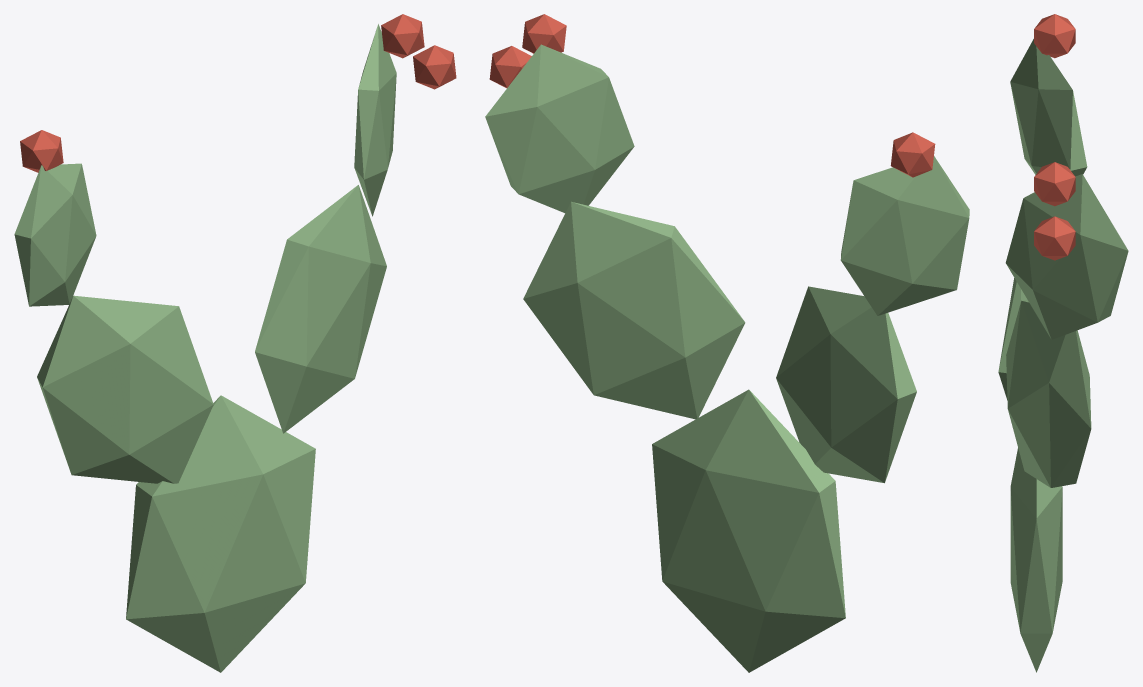
Rendered from SM_Cactus_Prickly_Pear.glb.
3 renders of one model, left to right at view 1: azimuth 30°, elevation 25°; view 2: azimuth 150°, elevation 25°; view 3: azimuth 270°, elevation 25°, orthographic. The views are drawn at different scales.
Visible parts, largest first — view 1: SM_Cactus_Prickly_Pear; view 2: SM_Cactus_Prickly_Pear; view 3: SM_Cactus_Prickly_Pear.
Boxes of the visible parts, box(x1,y1,x2,y2) form: SM_Cactus_Prickly_Pear: box(14, 14, 456, 672); SM_Cactus_Prickly_Pear: box(485, 14, 969, 672); SM_Cactus_Prickly_Pear: box(998, 14, 1128, 672).
Bounding box in the file's own units: 0.8535 × 1.09 × 0.213.
